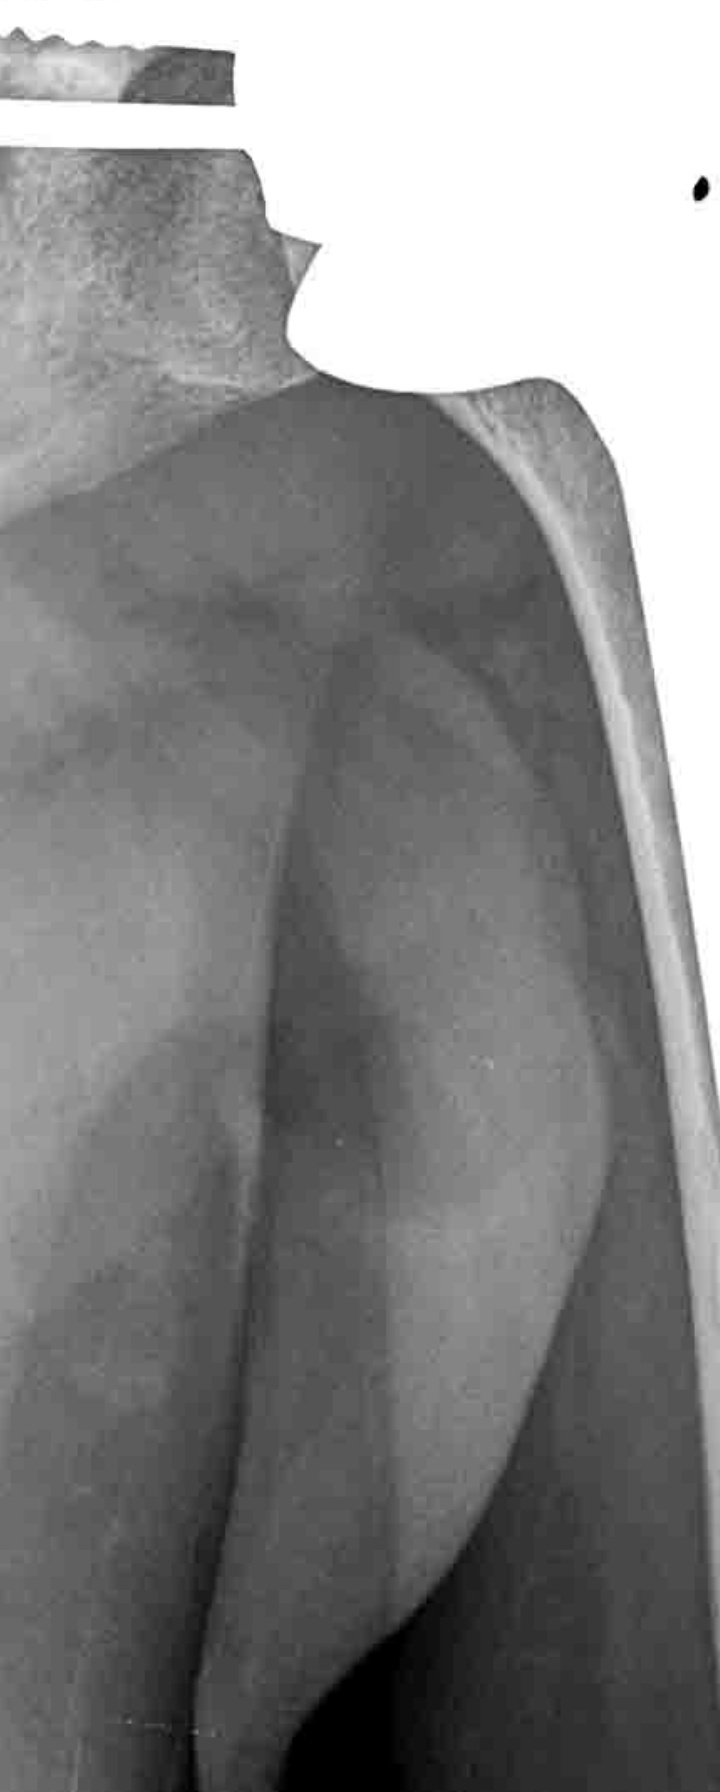Shoulder-Reverse-DJO: (3, 1, 720, 1115)
